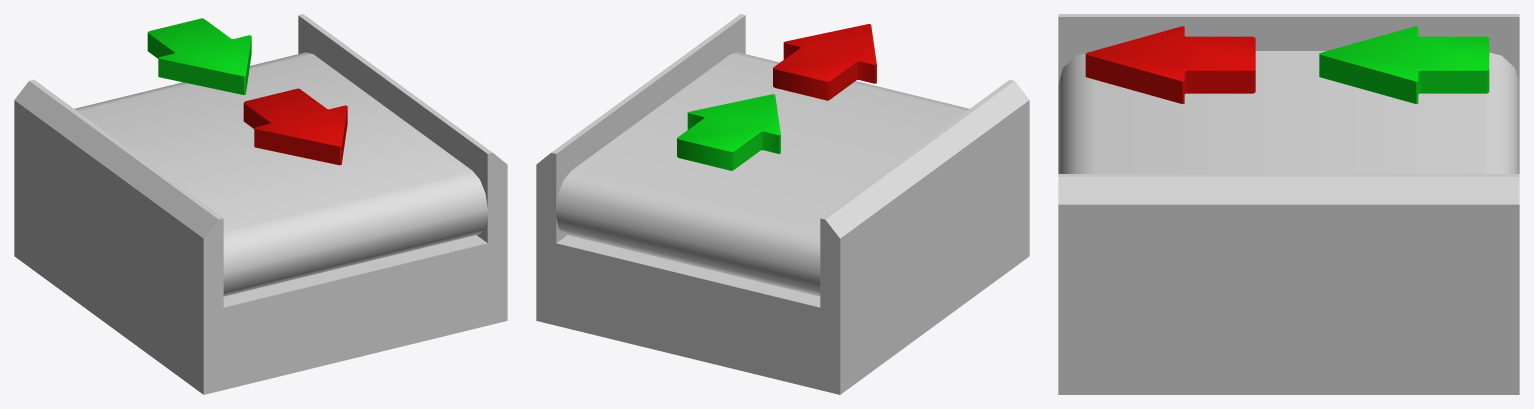
File: ConveyorBeltStraightBuildingRender.fbx
3 views of the same model, side by side, from view 1: azimuth 30°, elevation 25°; view 2: azimuth 150°, elevation 25°; view 3: azimuth 270°, elevation 25° (orthographic). The views are drawn at different scales.
Visible parts, largest first — view 1: ConveyorBeltBuildingRender; view 2: ConveyorBeltBuildingRender; view 3: ConveyorBeltBuildingRender.
Boxes of the visible parts, x1,y1,x2,y2 form: ConveyorBeltBuildingRender: [14, 14, 507, 394]; ConveyorBeltBuildingRender: [536, 14, 1029, 394]; ConveyorBeltBuildingRender: [1058, 14, 1519, 394].
Bounding box in the file's own units: 185 × 120 × 200.
